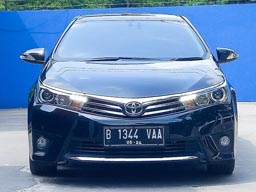plat: (104, 128, 162, 139)
